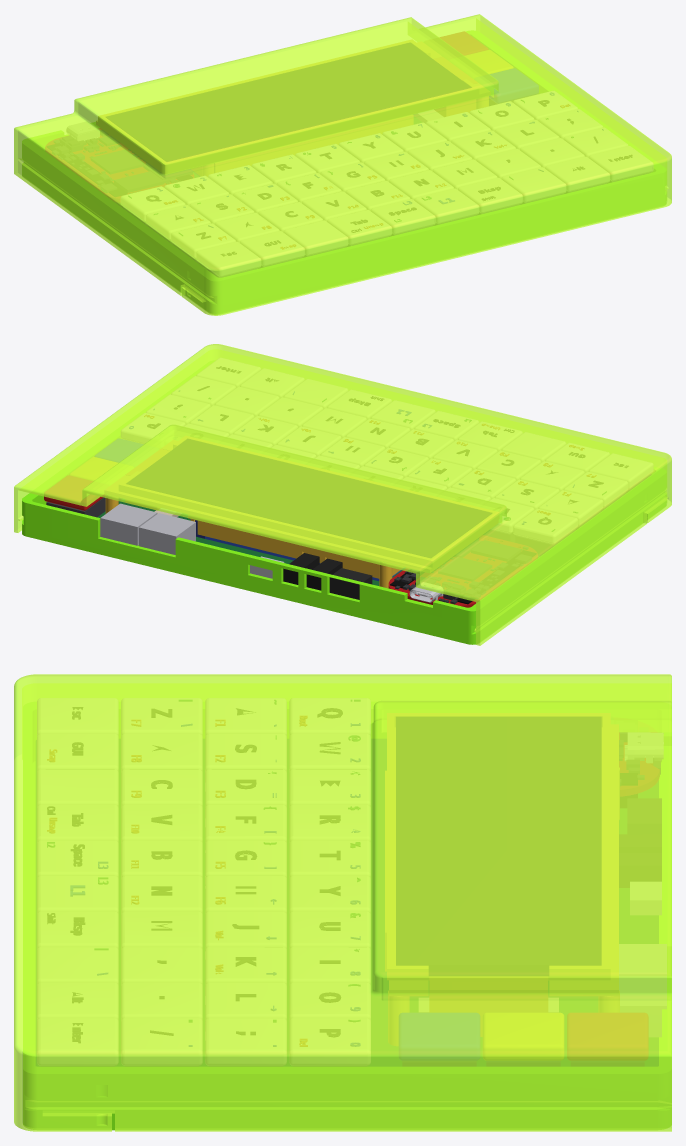
Rendered from cover_lime.glb.
The picture shows the model from 3 angles, top to bottom: view 1: azimuth 30°, elevation 25°; view 2: azimuth 150°, elevation 25°; view 3: azimuth 270°, elevation 25°; orthographic projection. The views are drawn at different scales.
Visible parts, largest first — view 1: Lid, Internals, Tray; view 2: Lid, Internals, Tray; view 3: Lid, Internals, Tray.
Boxes of the visible parts, x1,y1,x2,y2 form: Lid: [14, 14, 671, 315]; Internals: [45, 32, 652, 276]; Tray: [22, 31, 665, 314]; Lid: [14, 344, 671, 645]; Internals: [44, 358, 652, 607]; Tray: [22, 361, 665, 644]; Lid: [14, 674, 671, 1131]; Internals: [36, 698, 666, 1065]; Tray: [23, 702, 671, 1130].
Bounding box in the file's own units: 0.1818 × 0.0232 × 0.133.
